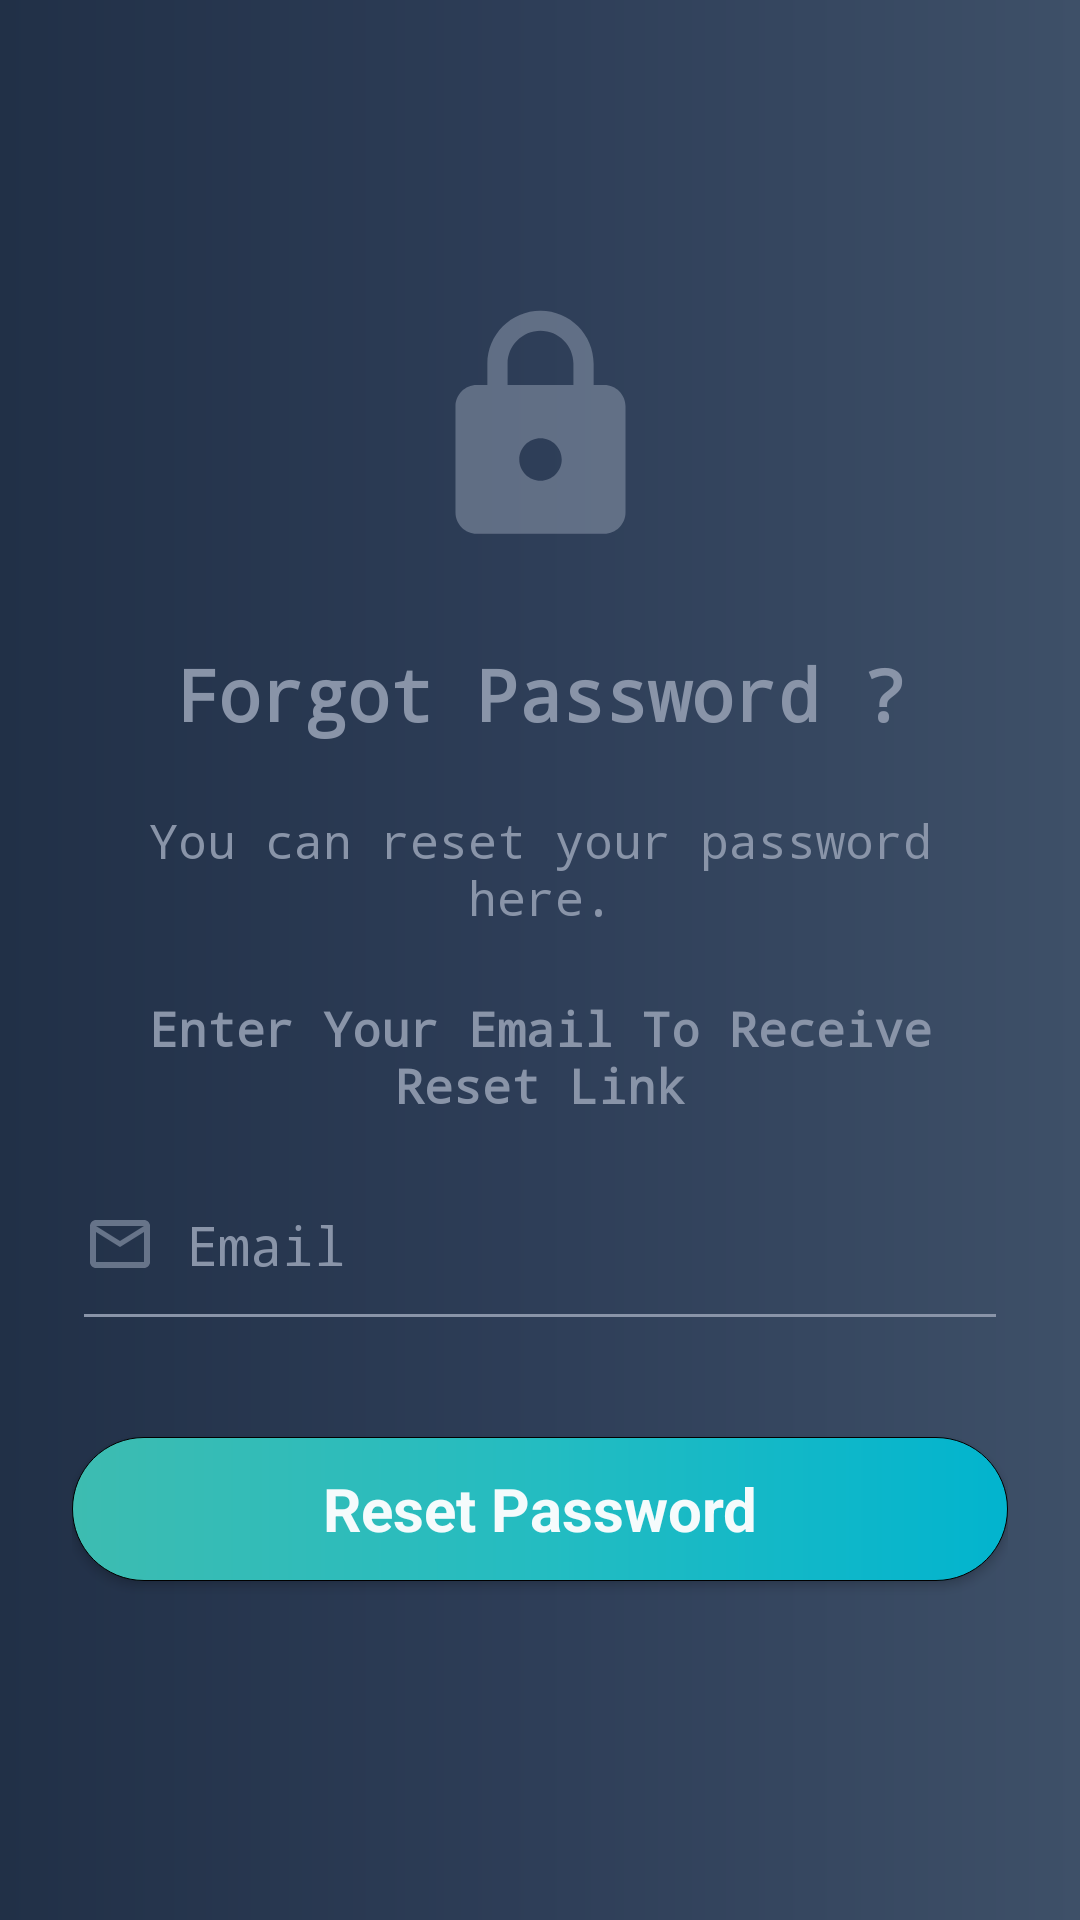

Where icons sit on this 1080px×1920px app screen, as {"x1": x1, "y1": y1, "x2": x2, "y2": y2}:
reset password: {"x1": 455, "y1": 311, "x2": 626, "y2": 534}
